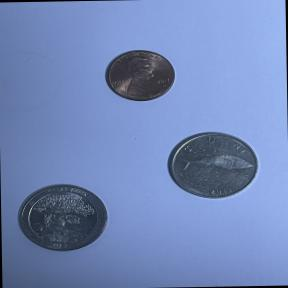Croatia-2Kune-B: (162, 128, 264, 204)
US-1cent-B: (98, 46, 180, 106)
US-25cent-B: (9, 179, 114, 256)
